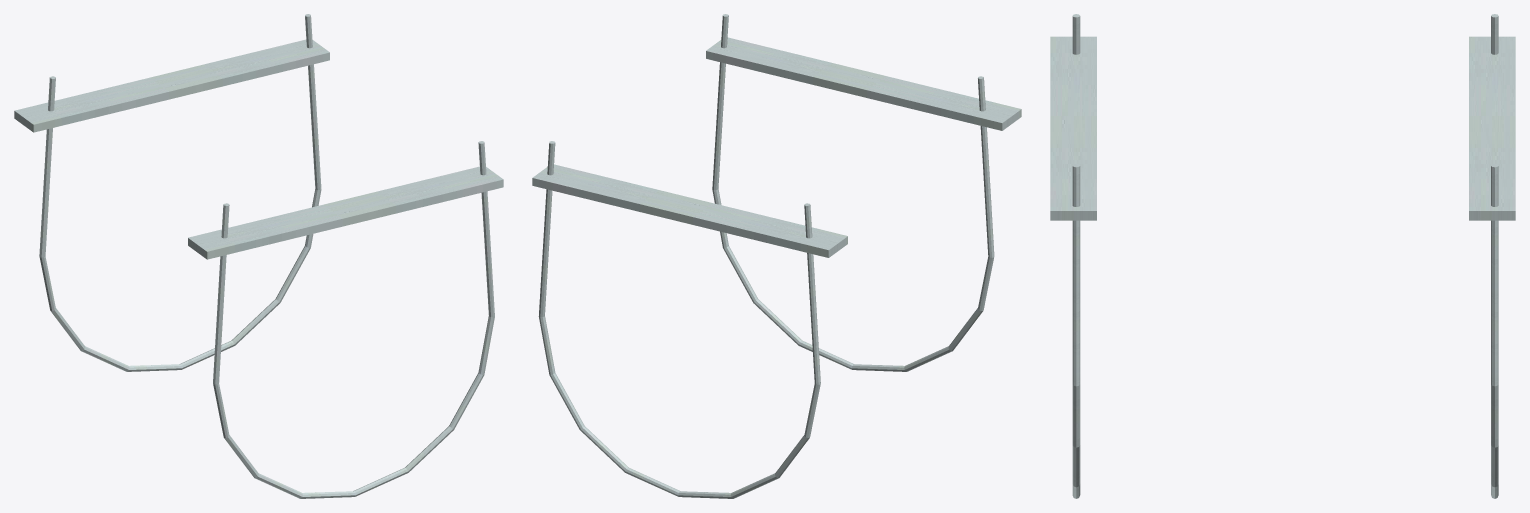
The model's file is azzj001-geode.glb.
3 renders of one model, left to right at view 1: azimuth 30°, elevation 25°; view 2: azimuth 150°, elevation 25°; view 3: azimuth 270°, elevation 25°, orthographic. The views are drawn at different scales.
Parts seen in each view (by area): view 1: Node; view 2: Node; view 3: Node.
Boxes of the visible parts, <box> form: Node: <box>14,14,503,498</box>; Node: <box>532,14,1021,498</box>; Node: <box>1050,14,1515,498</box>.
Bounding box in the file's own units: 0.3368 × 0.3492 × 0.3772.
Materials: 2 (2 with a texture image).
